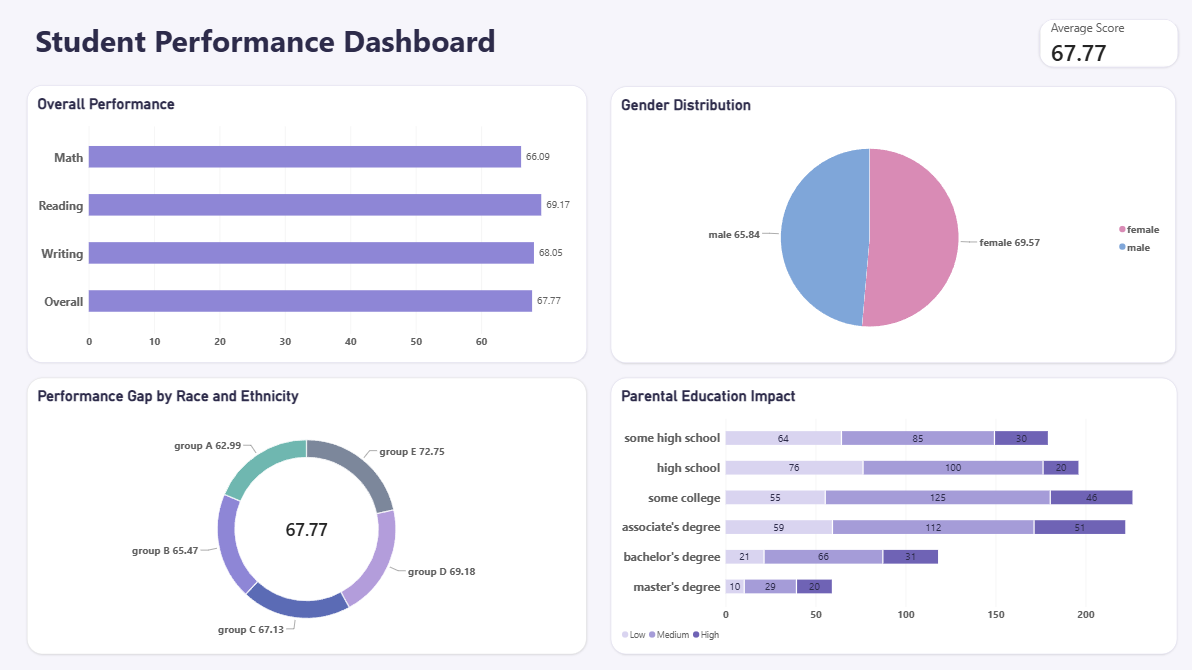

What the dashboard file says about the page in this screenshot:
{"tool":"powerbi","page":{"name":"Page 1","canvas":[1920,1080],"ordinal":0},"visuals":[{"type":"cardVisual","title":"Average Score","fields":{"Data":["Avg(study_performance.Average Score)"]},"box":[1667.5,32.5,222.5,77.5],"z":0},{"type":"clusteredBarChart","title":"Overall Performance","fields":{"Category":["Subject Scores.Subject"],"Y":["Subject Scores.Avg Score by Subject"]},"box":[48,138,896,444],"z":1000},{"type":"pieChart","title":"Gender Distribution","fields":{"Category":["study_performance.gender"],"Y":["Avg(study_performance.Average Score)"]},"box":[982,140,904,442],"z":2000},{"type":"donutChart","title":"Performance Gap by Race and Ethnicity","fields":{"Category":["study_performance.race_ethnicity"],"Y":["Avg(study_performance.Average Score)"]},"box":[48,606,895,442.5],"z":3000},{"type":"barChart","title":"Parental Education Impact","fields":{"Category":["study_performance.Parental Education"],"Series":["study_performance.Performance Level"],"Y":["study_performance.Student Count"]},"box":[982,606,906.2,442.5],"z":4000},{"type":"textbox","box":[47.5,32.5,1252.5,107.5],"z":5000}]}

Visuals, with their boxes in screenshot pixels (x1, y1, x2, y2), scaled from the page's 1920x1080 canvas onto the 1192x670 screenshot:
"Average Score" cardVisual: [1035, 20, 1173, 68]
"Overall Performance" clusteredBarChart: [30, 86, 586, 361]
"Gender Distribution" pieChart: [610, 87, 1171, 361]
"Performance Gap by Race and Ethnicity" donutChart: [30, 376, 585, 650]
"Parental Education Impact" barChart: [610, 376, 1172, 650]
textbox: [29, 20, 807, 87]
